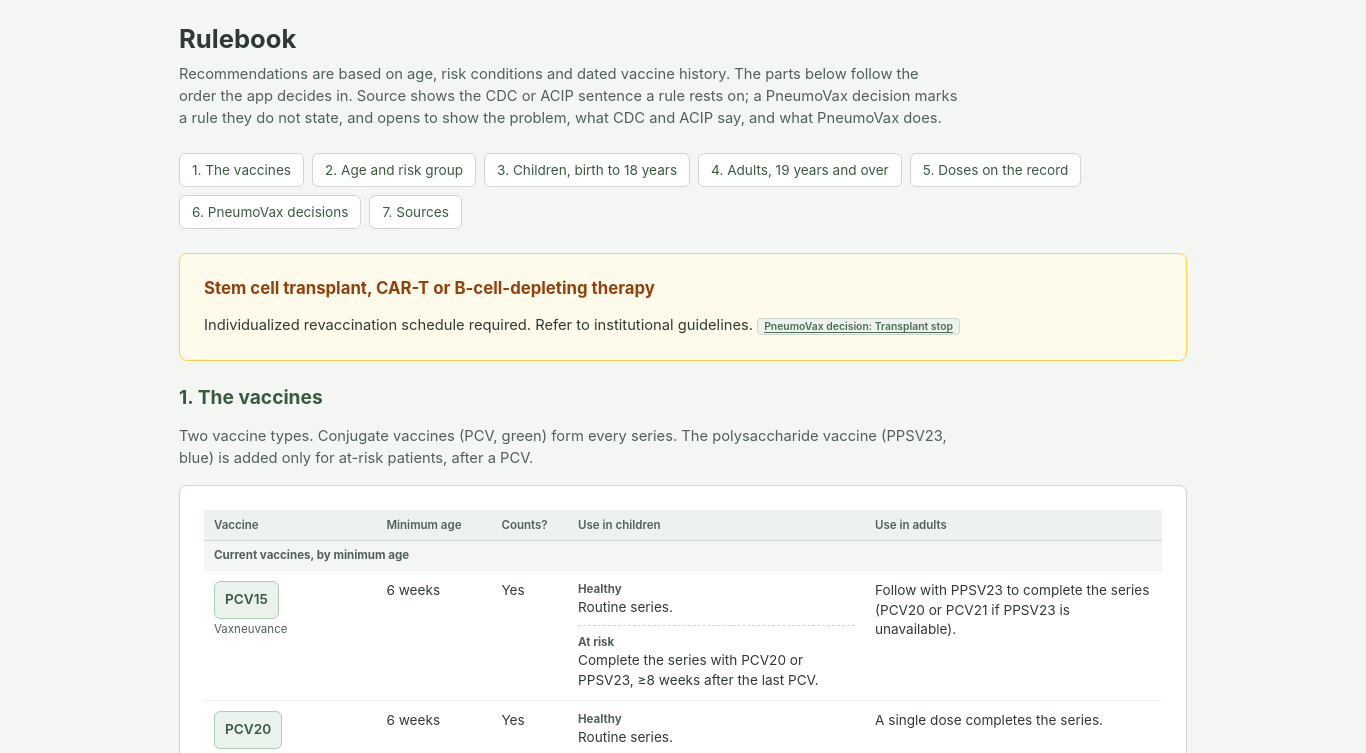
PneumoVax decisions: written once, named, consistent, opened in place › the chip is a button that opens its own reason in place, with no instruction sentence
Click the button with class "rb-decision". click: (859,326)
box: [757,318,960,335]
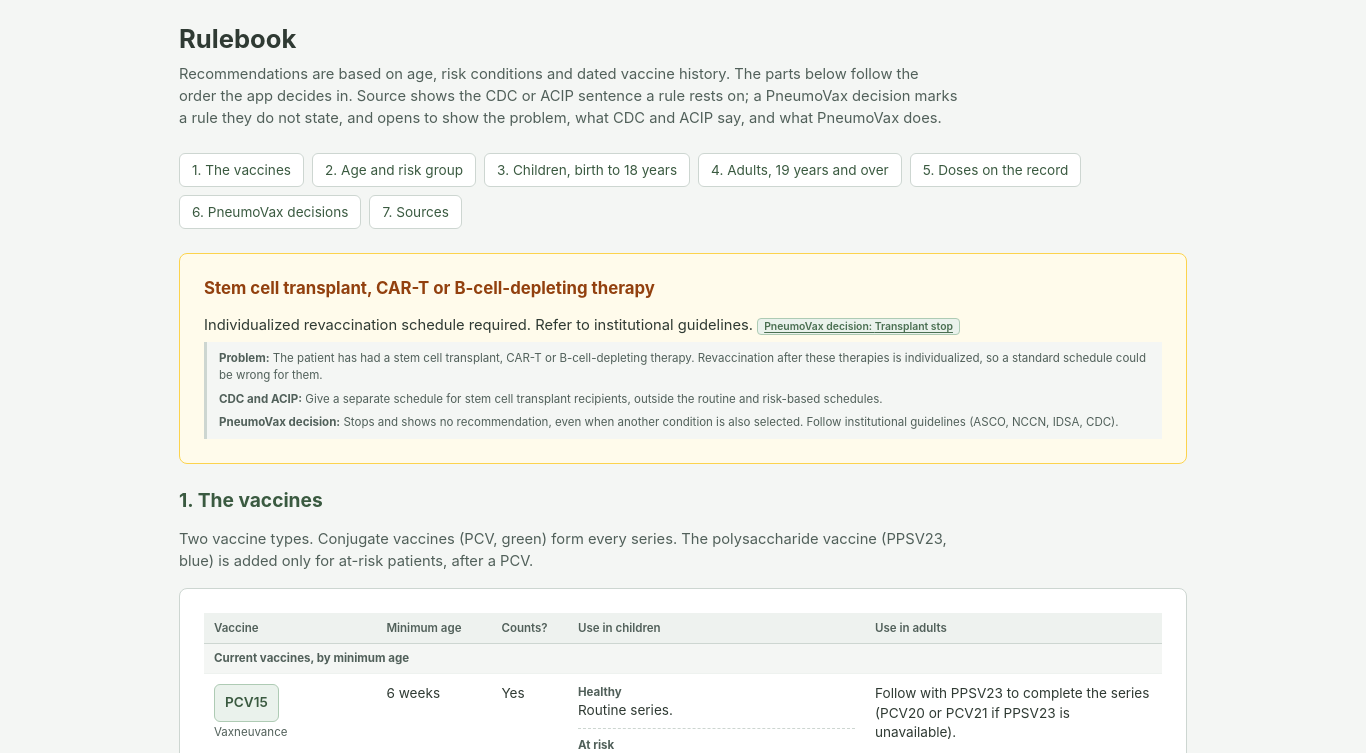
Result: the button with class "rb-decision" is expanded at [757,318,960,335]
Result: the element with class "rb-dec-panel" shows "The patient has had a stem cell transplant, CAR-T or B-cell-depleting therapy. Revaccination after these therapies is individualized, so a standard schedule cou" at [219,351,1146,382]
